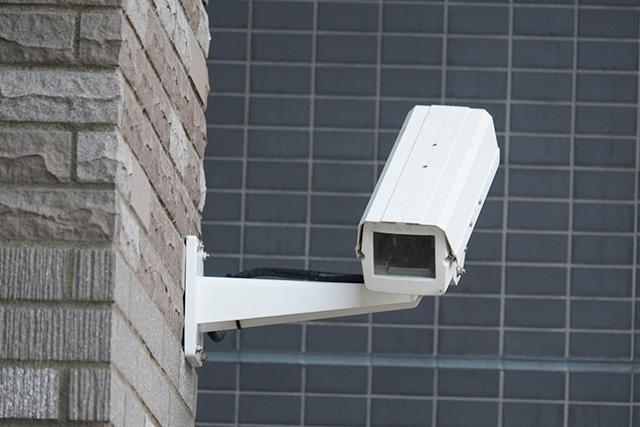tutu: (320, 80, 510, 320)
